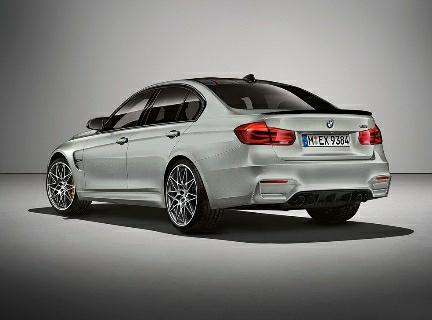car: (26, 72, 403, 234)
